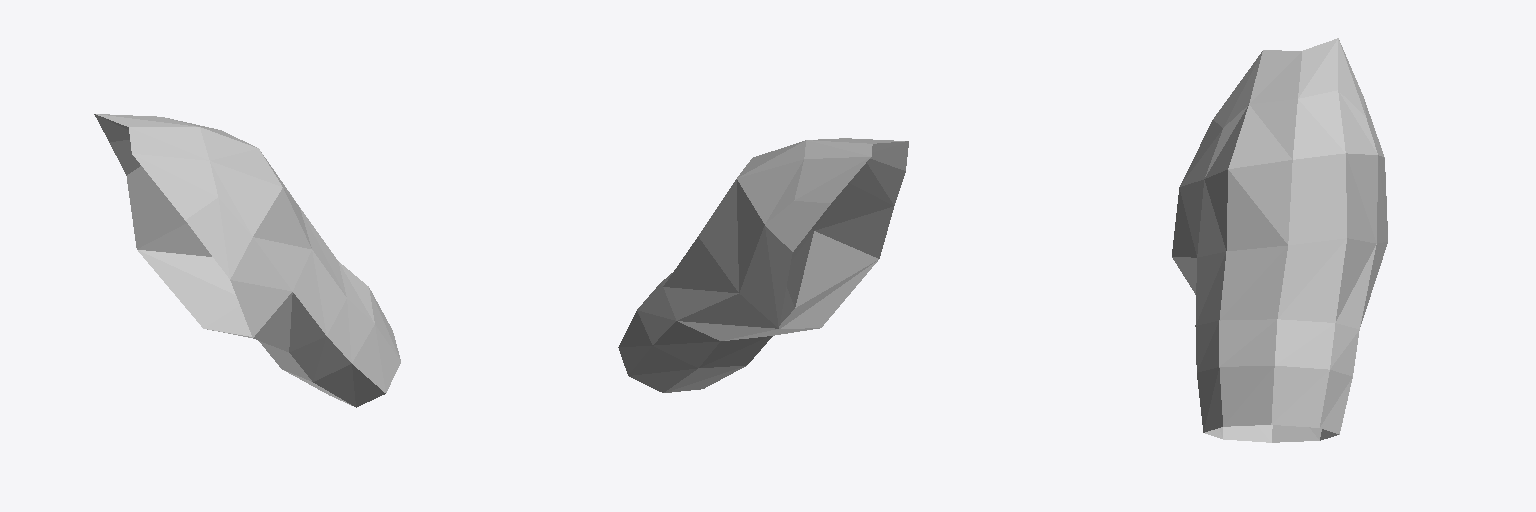
The model's file is upperArmL.obj.
The picture shows the model from 3 angles: view 1: azimuth 30°, elevation 25°; view 2: azimuth 150°, elevation 25°; view 3: azimuth 270°, elevation 25°; orthographic projection.
Visible parts, largest first — view 1: Base.003_Cylinder.002; view 2: Base.003_Cylinder.002; view 3: Base.003_Cylinder.002.
Part boxes in pixels (bbox=[...]): Base.003_Cylinder.002: bbox=[94, 114, 400, 407]; Base.003_Cylinder.002: bbox=[618, 138, 908, 392]; Base.003_Cylinder.002: bbox=[1172, 38, 1387, 442].
Bounding box in the file's own units: 0.3852 × 0.4248 × 0.2723.